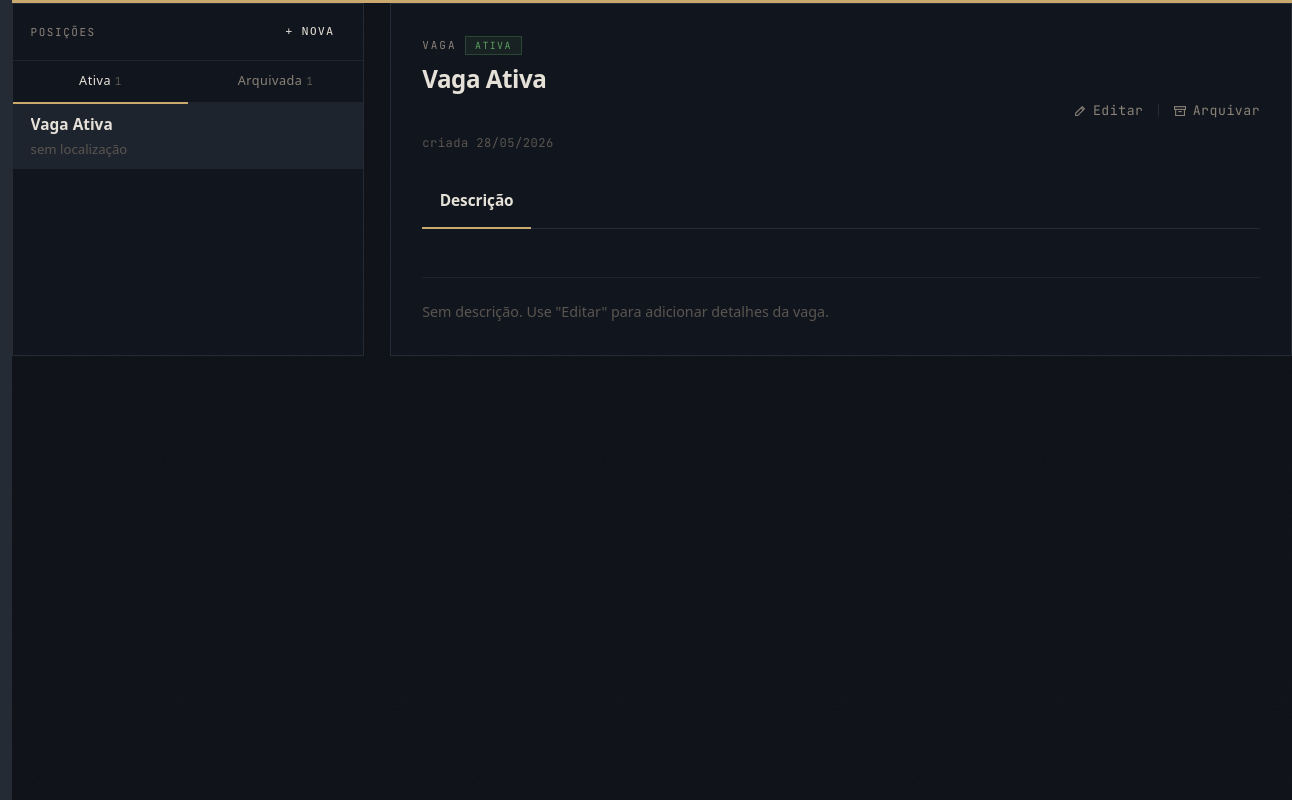
Scenario: abas Ativa | Arquivada + exclusão › aba Ativa lista só não-arquivadas; Arquivada só as arquivadas
The width and height of the screenshot is (1292, 800).
Expected: the button "Vaga Ativa sem localização" is shown, [13,103,363,169]
Expected: the button "Vaga Velha" is not shown
troca pra Arquivada
Click the tab "Arquivada 1".
click(276, 82)  # box [188,60,363,104]
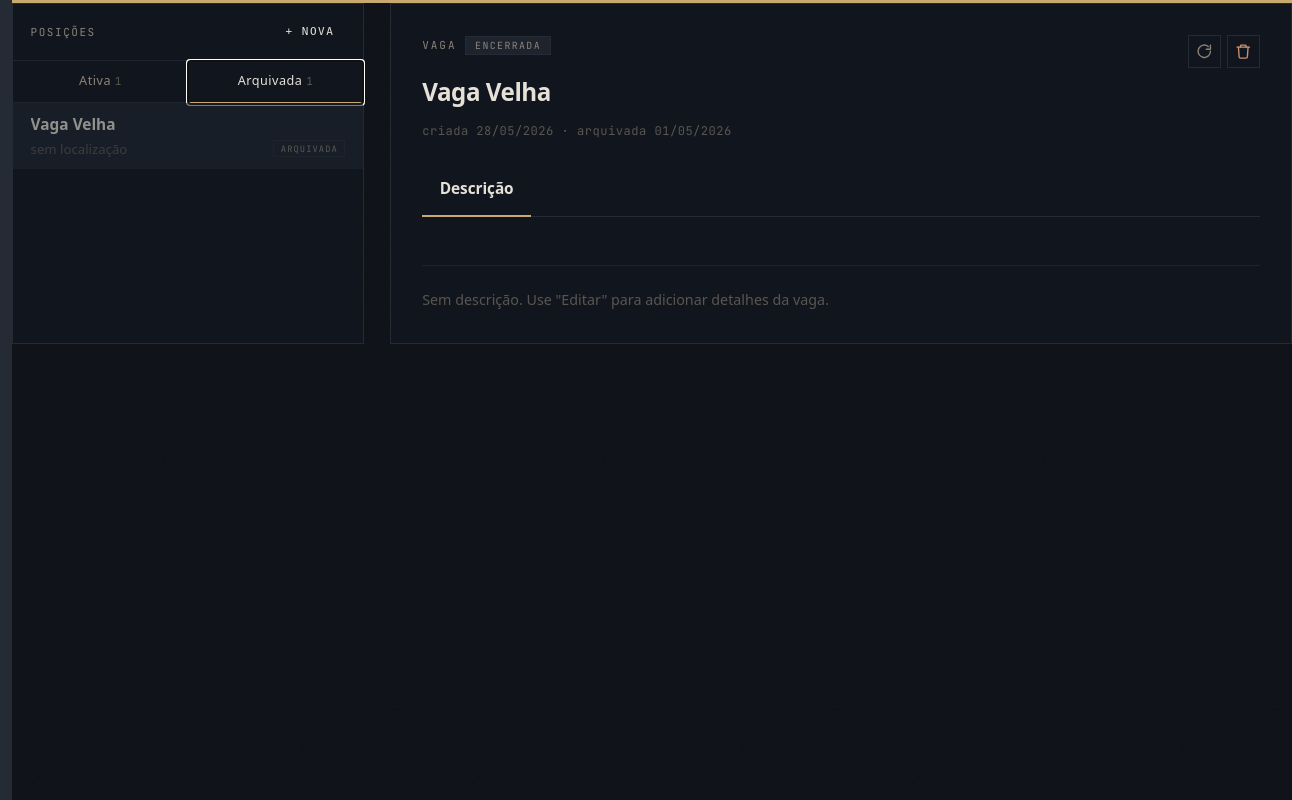
Expected: the button "Vaga Velha sem localização arquivada" is shown, [13,103,363,169]
Expected: the button "Vaga Ativa" is gone
